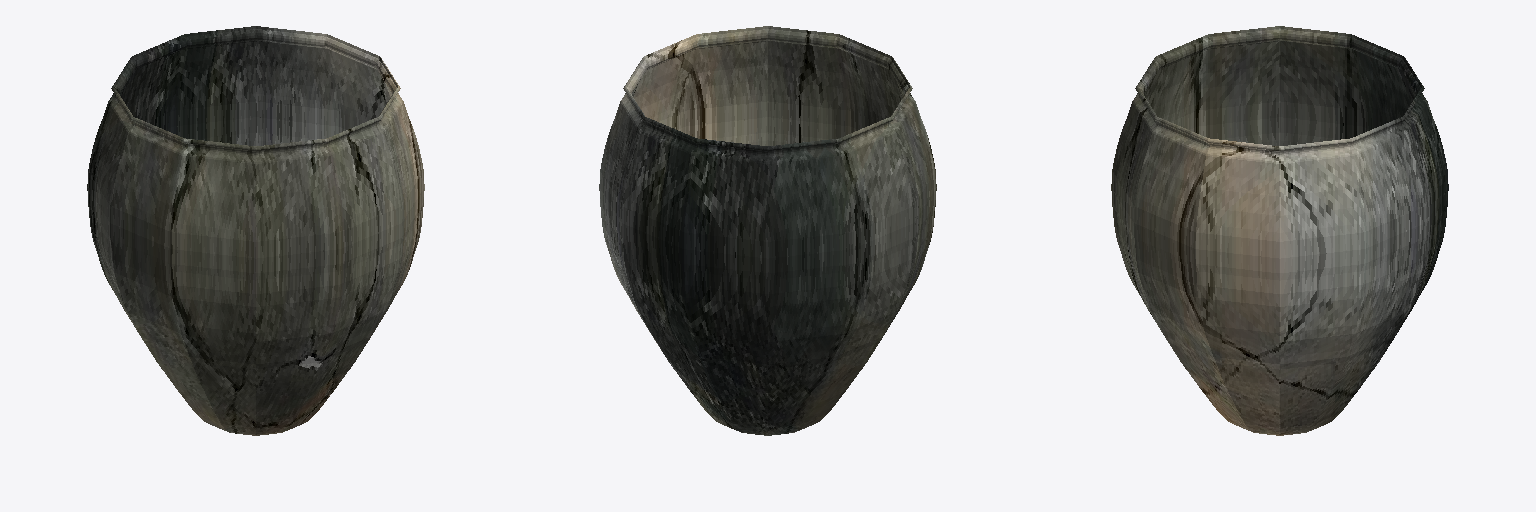
The picture shows the model from 3 angles: view 1: azimuth 30°, elevation 25°; view 2: azimuth 150°, elevation 25°; view 3: azimuth 270°, elevation 25°; orthographic projection.
Visible parts, largest first — view 1: Layer_0; view 2: Layer_0; view 3: Layer_0.
Part boxes in pixels (left/top/right/bottom): Layer_0: left=87, top=26, right=424, bottom=435; Layer_0: left=599, top=26, right=936, bottom=435; Layer_0: left=1111, top=26, right=1448, bottom=435.
Size of the model in its own units: 2.37 by 2.63 by 2.37.
1 materials, 1 textured.